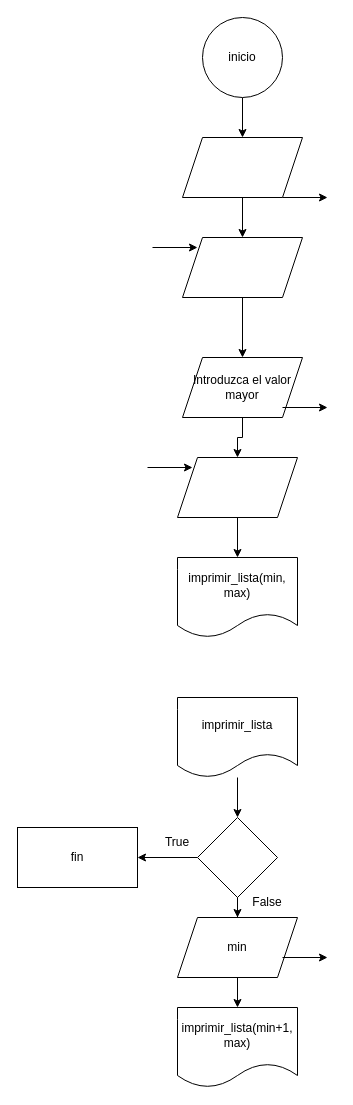
Some shapes in this 353 by 1105 pixel diagram are drawn without their labels. The centre of each missing label's shape, as x and y in pixels:
"Introduzca el valor menor" goes at (242,167).
"max" goes at (237,487).
"men" goes at (242,267).
"min > max" goes at (237,857).
